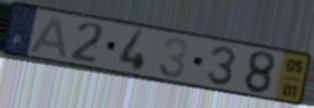2: (68, 21, 106, 64)
3: (205, 45, 238, 88), (158, 36, 190, 78)
4: (116, 27, 148, 75)
8: (243, 50, 277, 96)
A: (27, 15, 69, 60)
